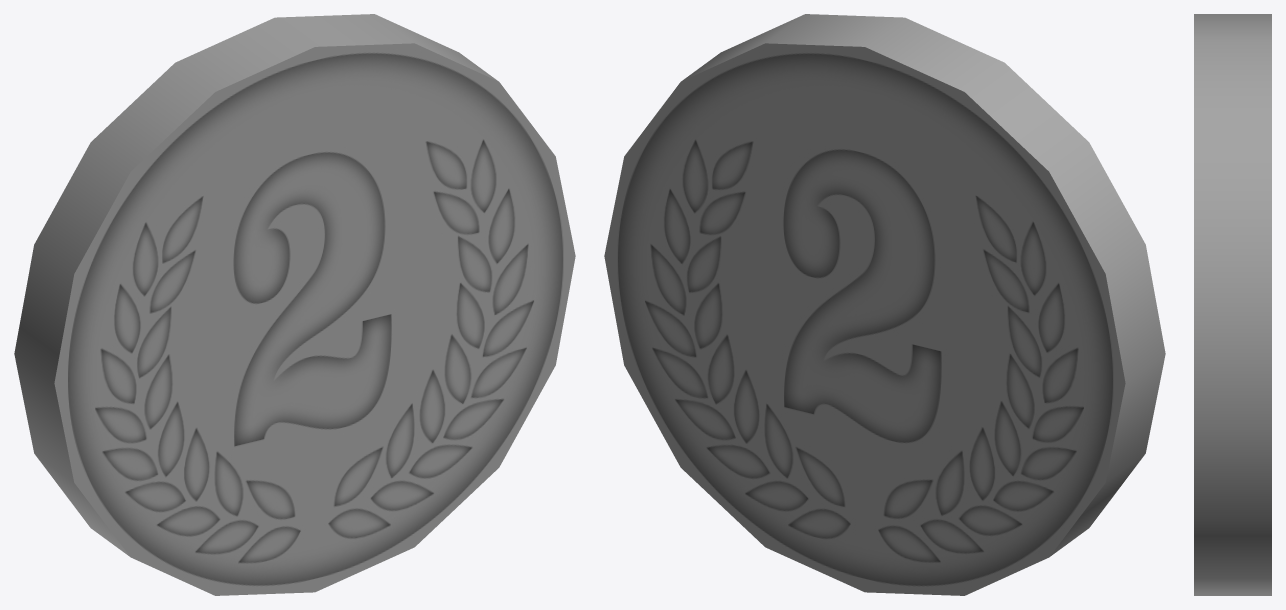
File: CoinSilver.FBX
3 renders of one model, left to right at view 1: azimuth 30°, elevation 25°; view 2: azimuth 150°, elevation 25°; view 3: azimuth 270°, elevation 25°, orthographic. The views are drawn at different scales.
Parts seen in each view (by area): view 1: CoinSilver; view 2: CoinSilver; view 3: CoinSilver.
Part boxes in pixels (x1,y1,x2,y2): CoinSilver: [14, 14, 575, 595]; CoinSilver: [604, 14, 1165, 595]; CoinSilver: [1194, 14, 1271, 595].
Bounding box in the file's own units: 6 × 6 × 0.8.
